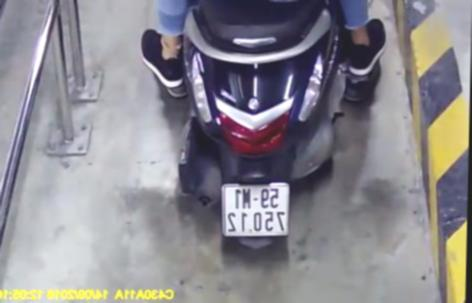License_Plate: (213, 178, 298, 246)
